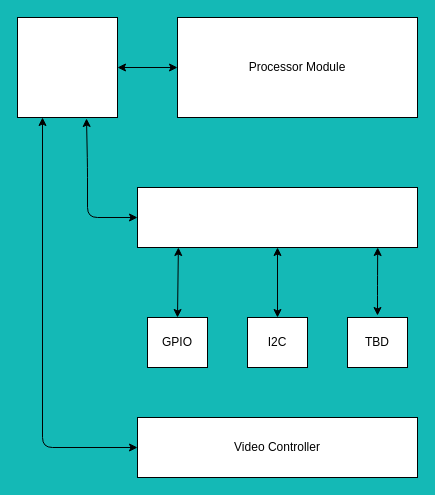
The diagram is 435 pixels wide and 495 high, and some of its shapes have lost their labels. Here are the shapes that lost their labels. From the top down, the centre of each, then its label:
At (x=67, y=67): "Processor Bridge".
At (x=277, y=217): "Memory Mapped Input/Output".
